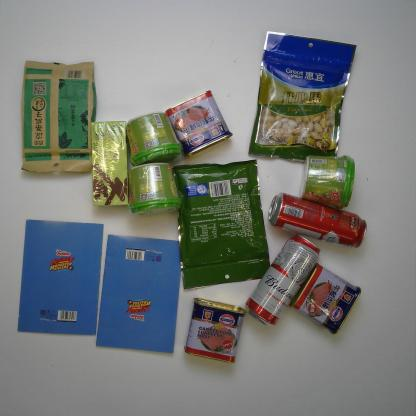Alcohol: (241, 234, 322, 329), (267, 190, 368, 250)
Canned Food: (288, 261, 362, 335), (163, 89, 233, 158), (183, 296, 246, 364)
Dried Food: (20, 58, 98, 175)
Dried Fruit: (248, 30, 358, 163), (172, 158, 271, 290)
Instant Drink: (119, 108, 185, 167), (300, 152, 360, 212), (90, 118, 129, 209), (127, 156, 182, 219)
Stationery: (95, 234, 185, 354), (17, 218, 104, 337)
